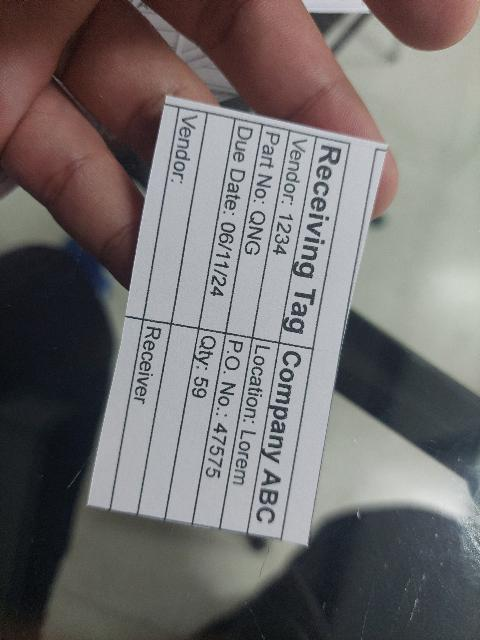PO no: (193, 333, 253, 530)
part no: (227, 124, 290, 338)
qty: (165, 329, 226, 525)
tags: (87, 98, 385, 544)
